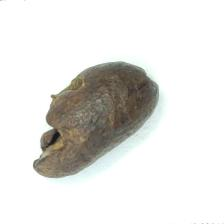NG: (32, 72, 85, 172)
